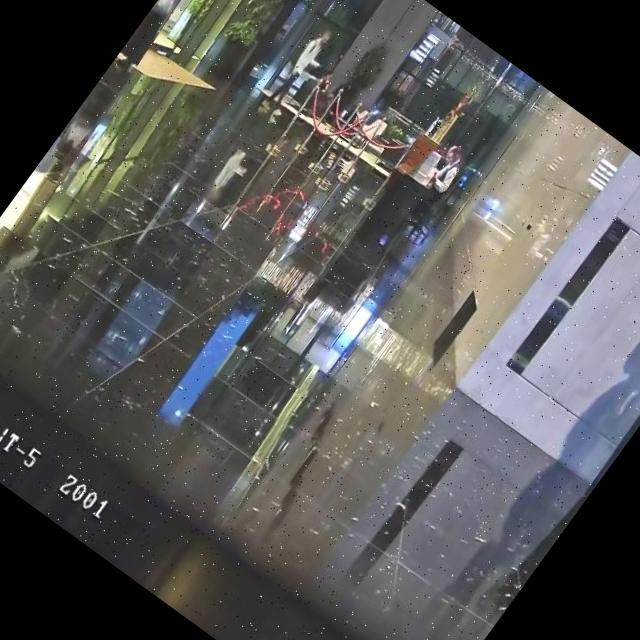person: (261, 22, 338, 116), (117, 0, 216, 68), (418, 143, 472, 207), (298, 67, 354, 128)
